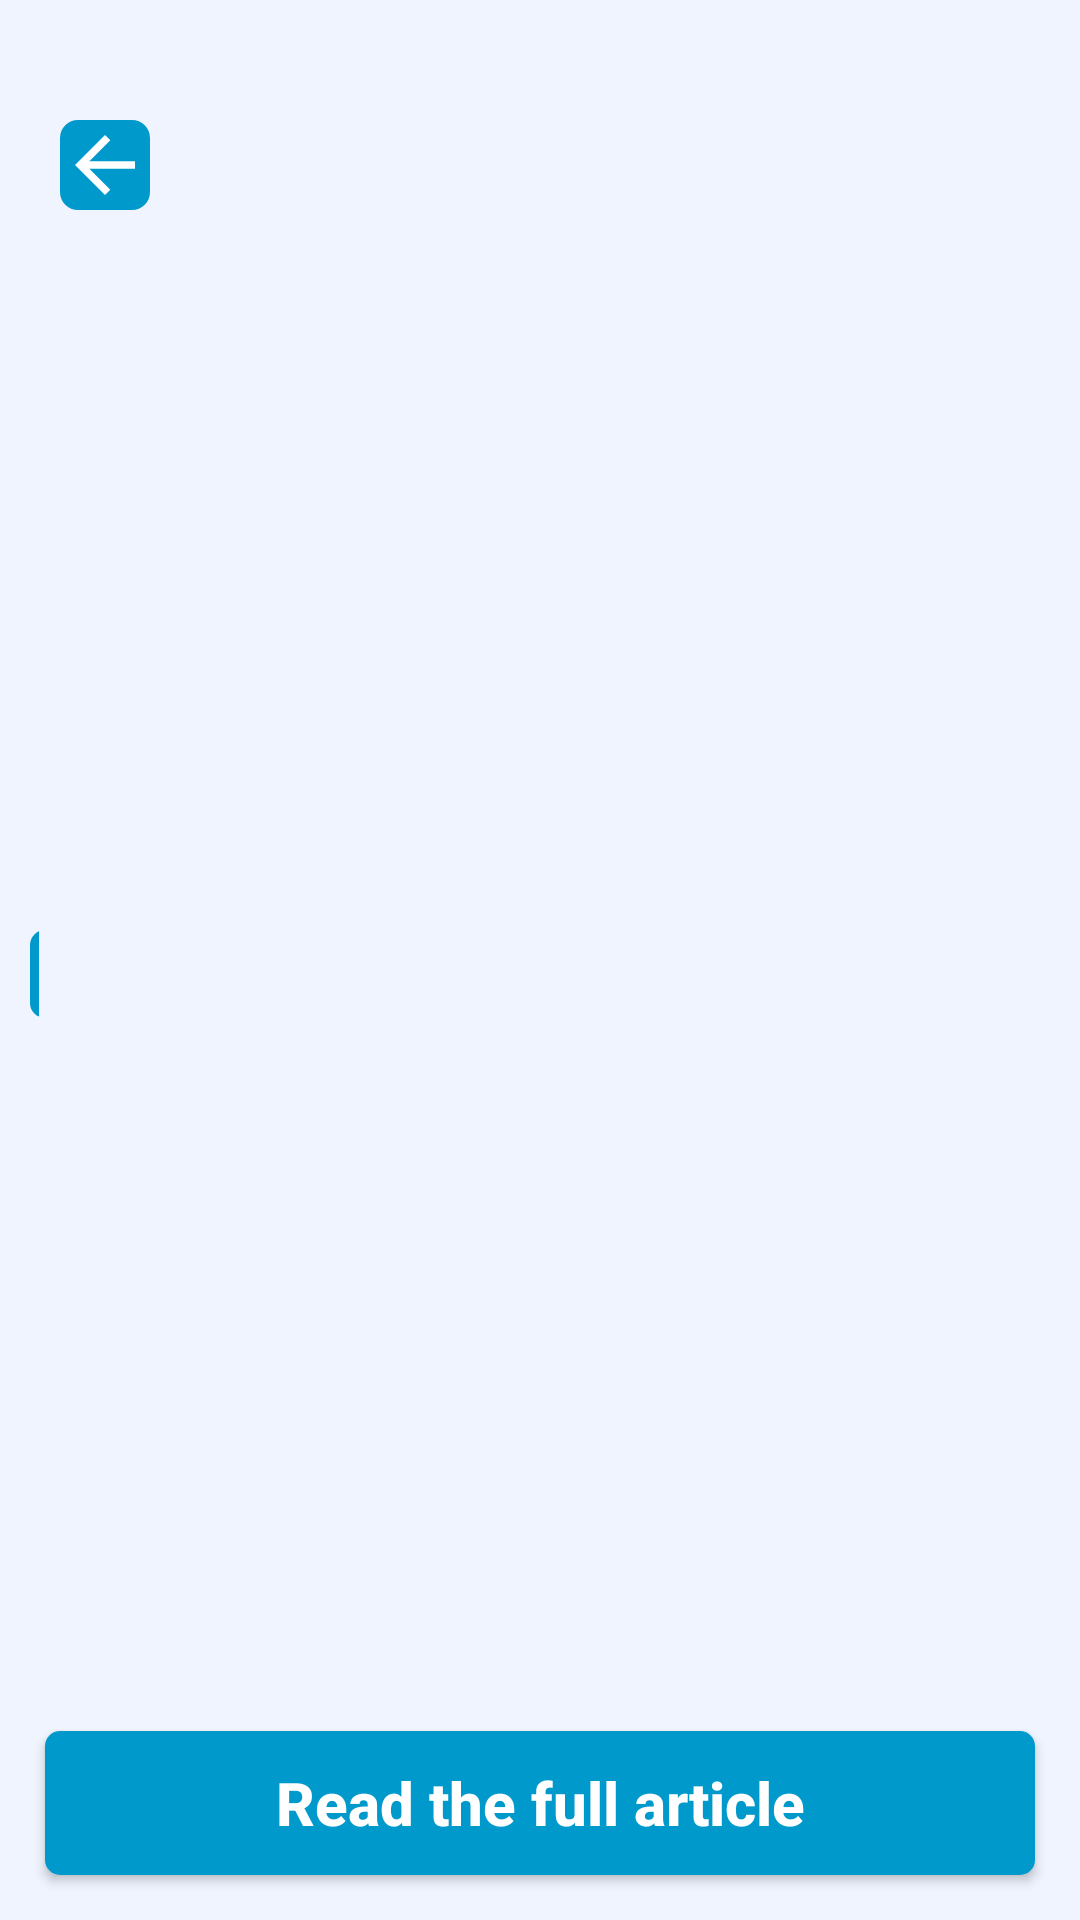

Where to tap for icons on this 1080x1920 app screen, as (x,y):
back: (105,165)
